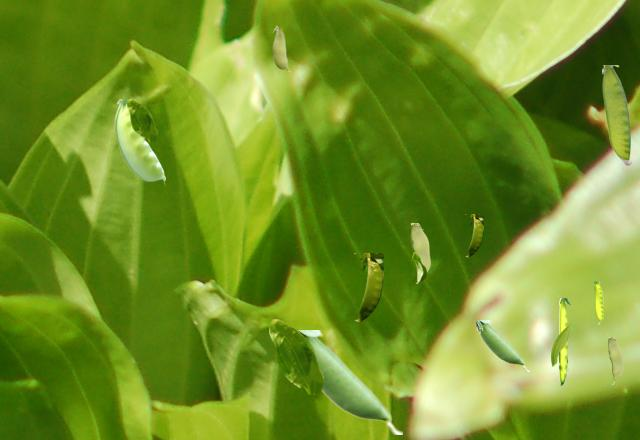pea: (299, 330, 401, 433), (114, 99, 164, 185), (602, 65, 631, 164), (476, 320, 529, 370), (354, 253, 382, 321), (411, 223, 429, 282), (559, 298, 571, 384), (272, 25, 292, 71), (465, 214, 482, 256), (608, 337, 622, 383), (594, 281, 602, 323)
